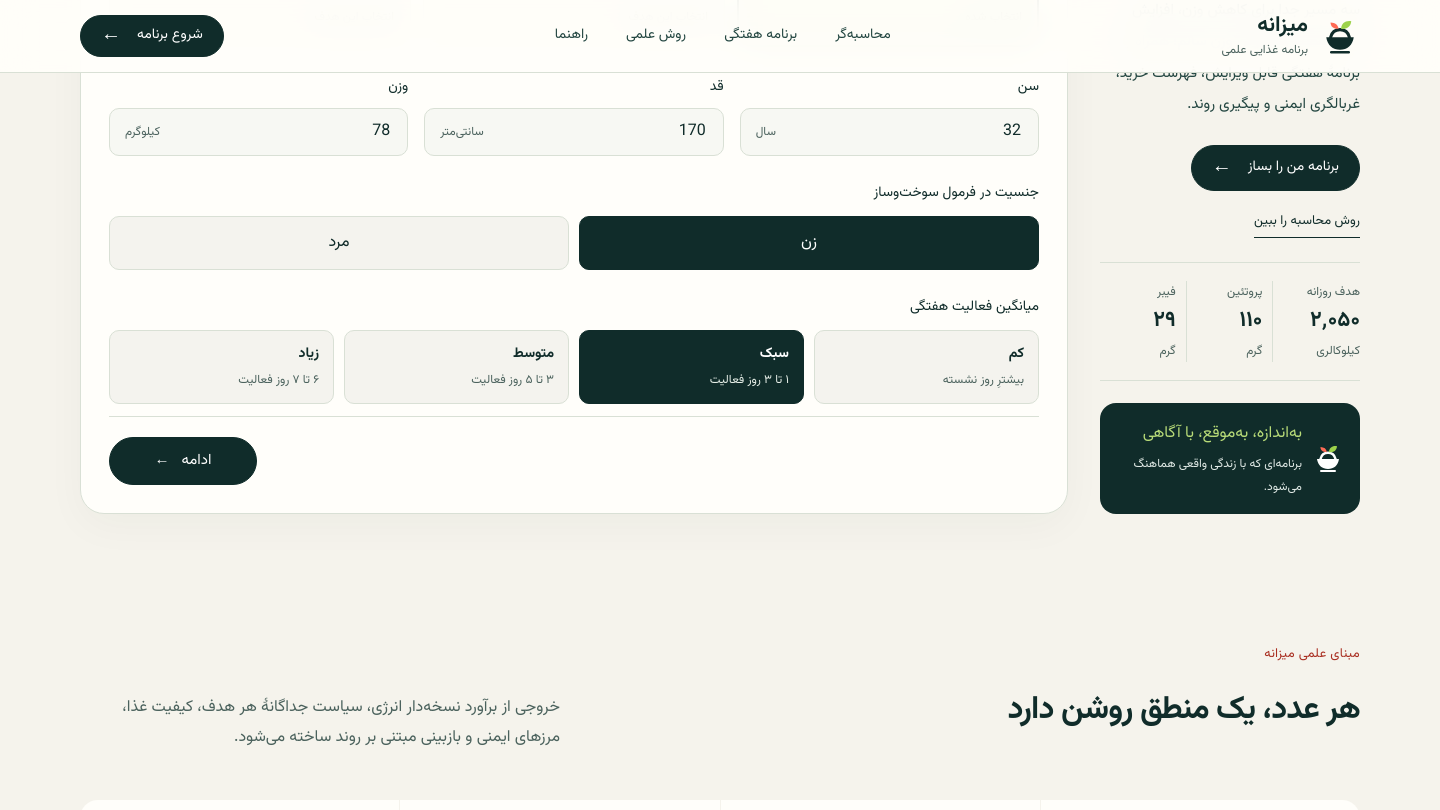
Test: shopping list disclosure (ADR-0002, round 2 frequency count) › shows the meal-frequency-count note
(page scrolled)
Step 1. Click the button "ادامه ←" → (183, 461), box [109,437,257,485]
(page scrolled)
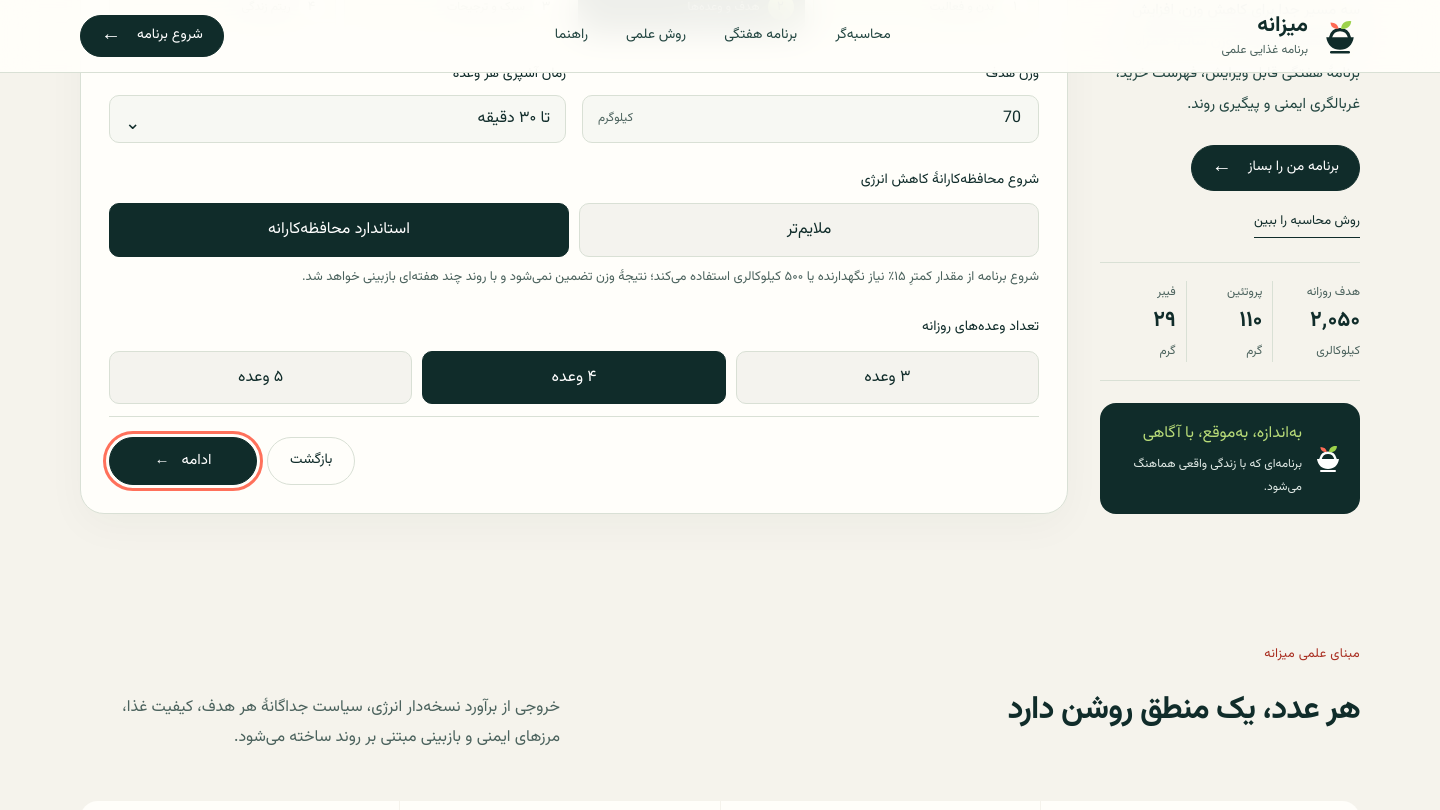
Step 2. Click the button "ادامه ←" → (183, 461), box [109,437,257,485]
(page scrolled)
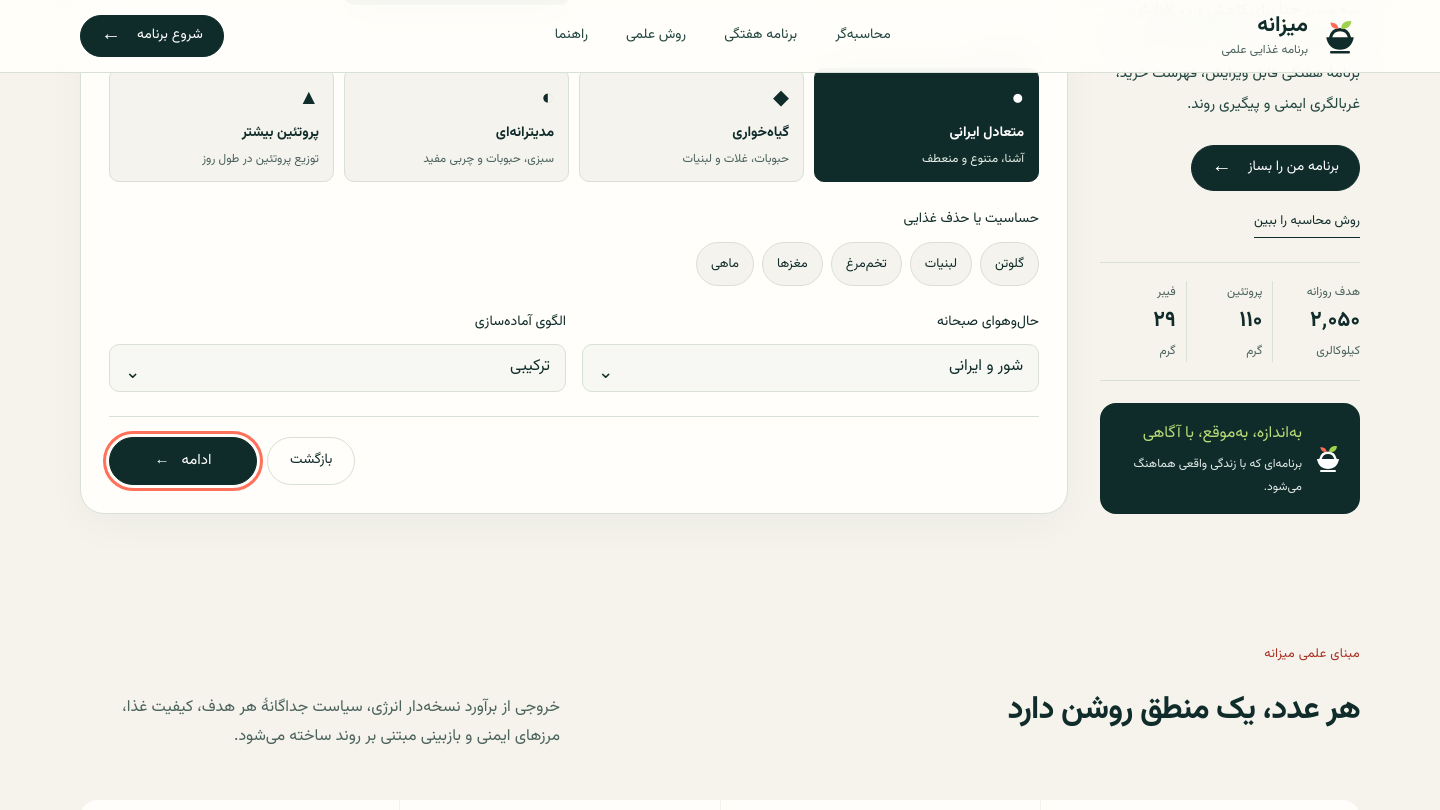
Step 3. Click the button "ادامه ←" → (183, 461), box [109,437,257,485]
(page scrolled)
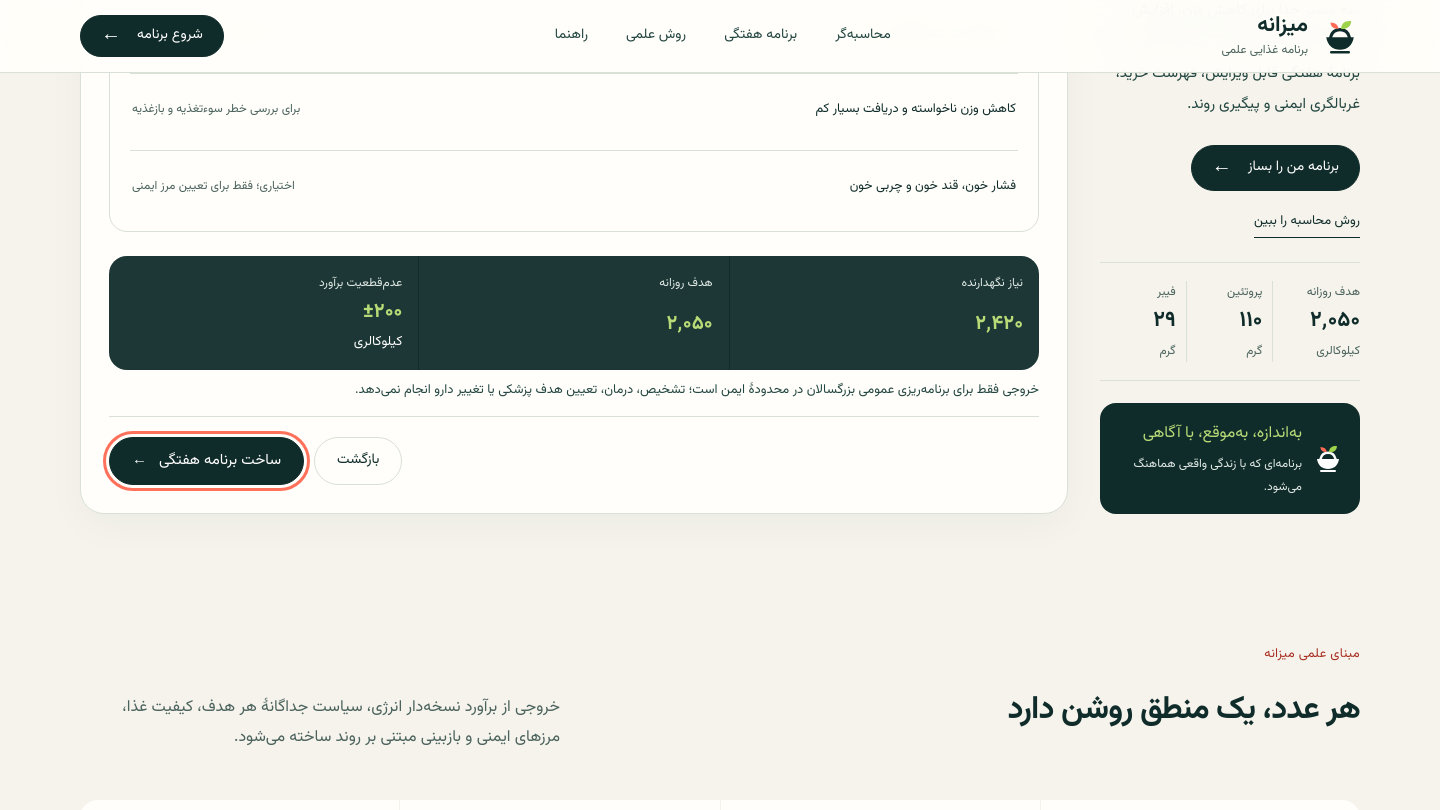
Step 4. Click the button "ساخت برنامه هفتگی ←" → (206, 461), box [109,437,304,485]
(page scrolled)
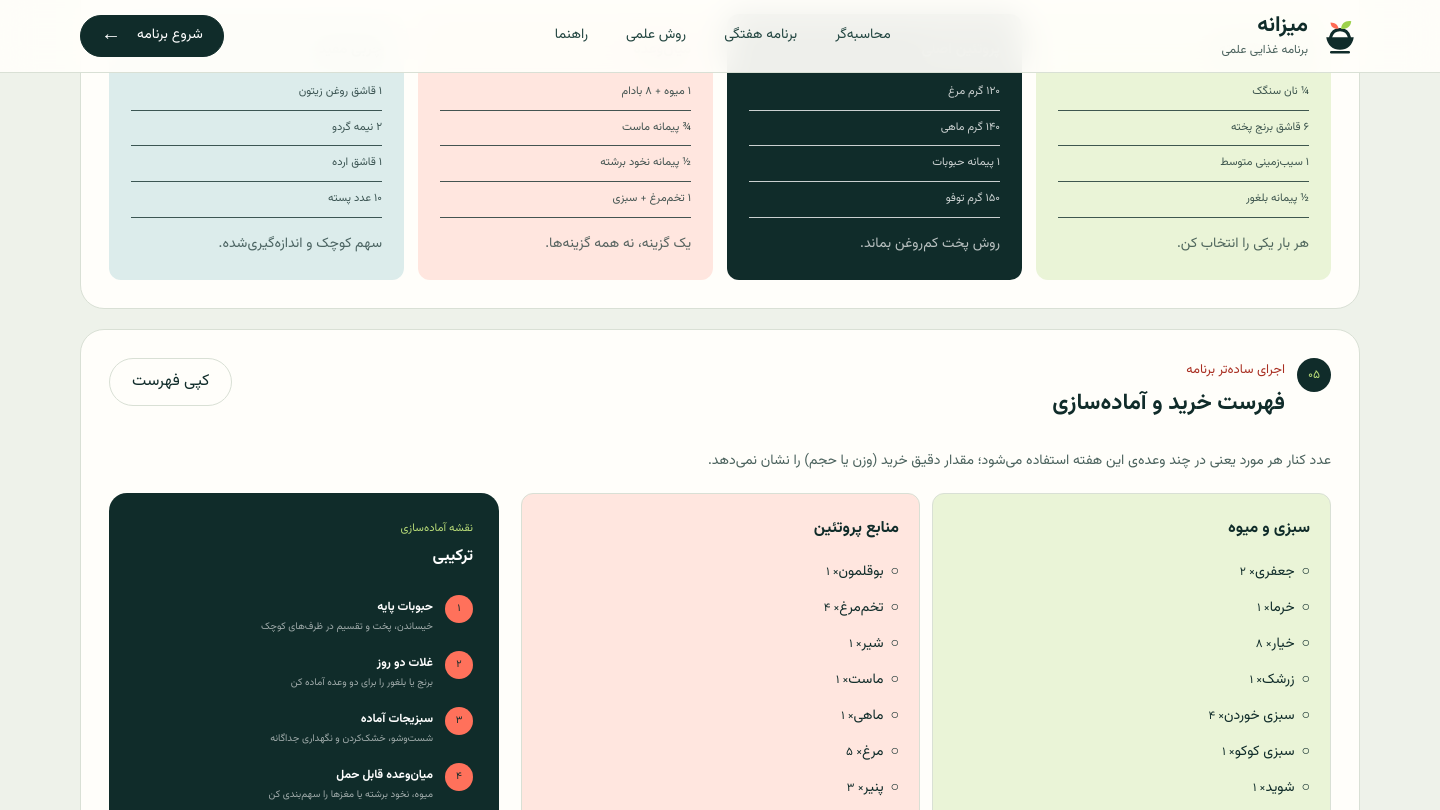
Check: the text "چند وعده‌ی این هفته استفاده می‌شود" is shown, box [708,450,1331,472]
